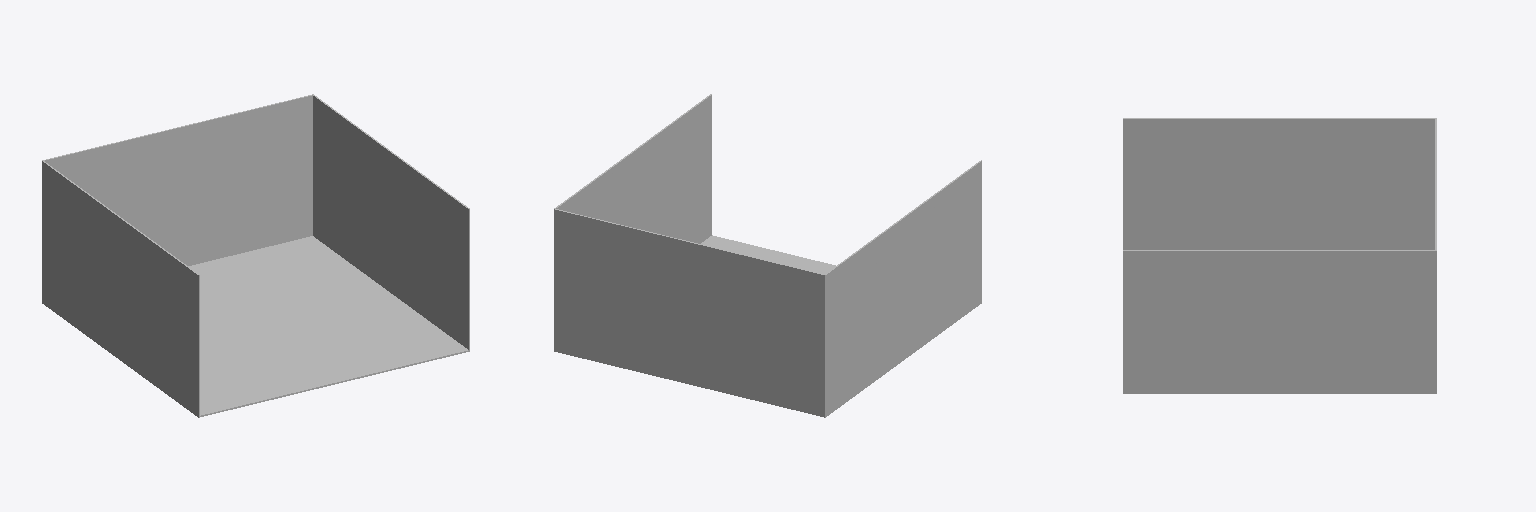
The model's file is Suelo1_2.obj.
3 renders of one model, left to right at view 1: azimuth 30°, elevation 25°; view 2: azimuth 150°, elevation 25°; view 3: azimuth 270°, elevation 25°, orthographic.
Visible parts, largest first — view 1: object 1; view 2: object 1; view 3: object 1.
Part boxes in pixels (x1,y1,x2,y2): object 1: (42, 94, 469, 417); object 1: (554, 94, 981, 417); object 1: (1123, 118, 1436, 393).
Size of the model in its own units: 17.6 by 8.8 by 17.6.